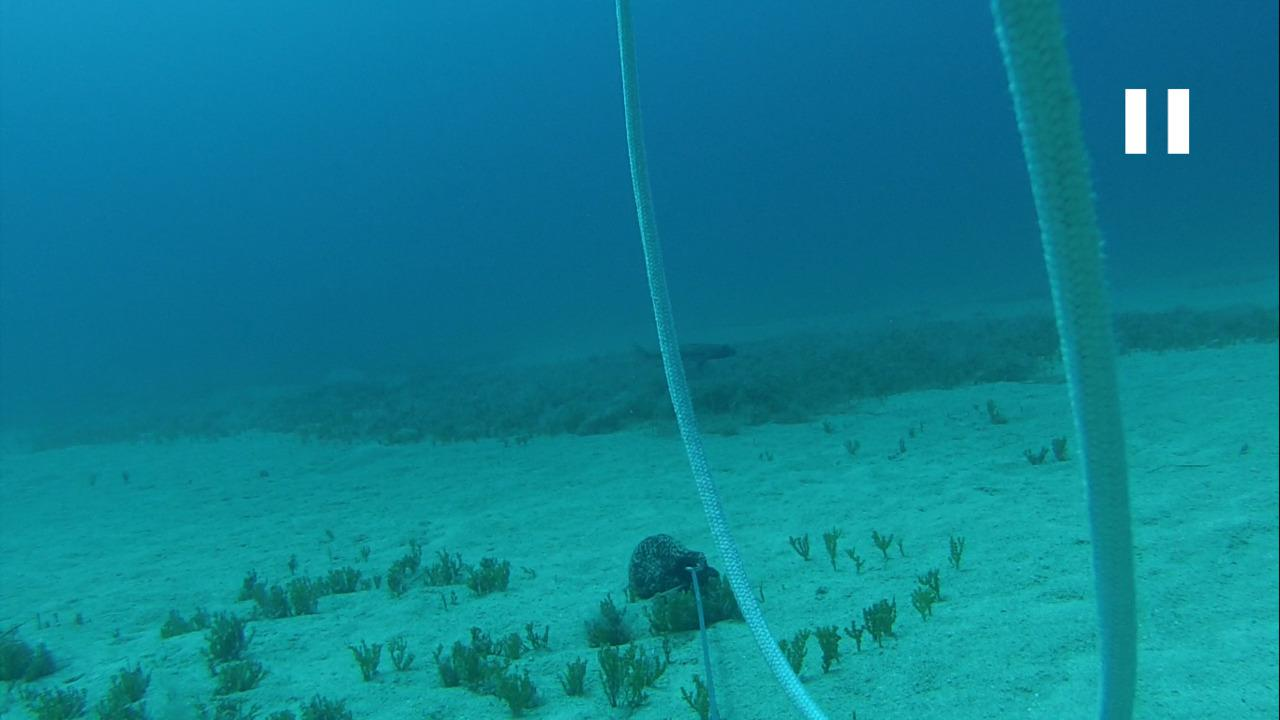dactylopterus: (667, 334, 740, 382)
